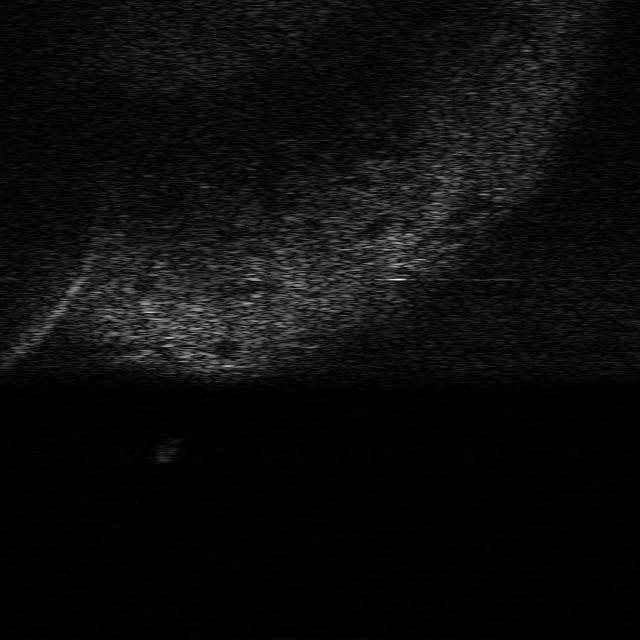cylinder: (146, 434, 184, 464)
